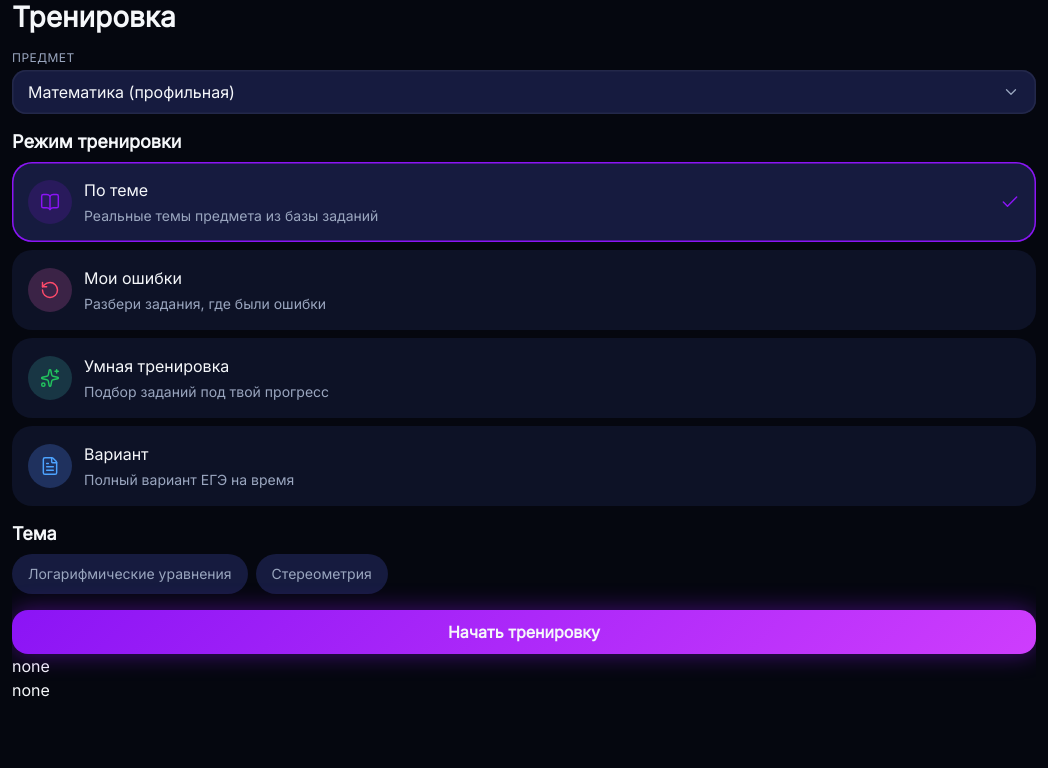
Training — "По теме" (real topics, independent 🎲/🔄, numbers, amount) › shows an honest "no unseen tasks" message for the topic, never a silent fallback
Click the button "Логарифмические уравнения" at (130, 574), box [12,554,248,594]
(page scrolled)
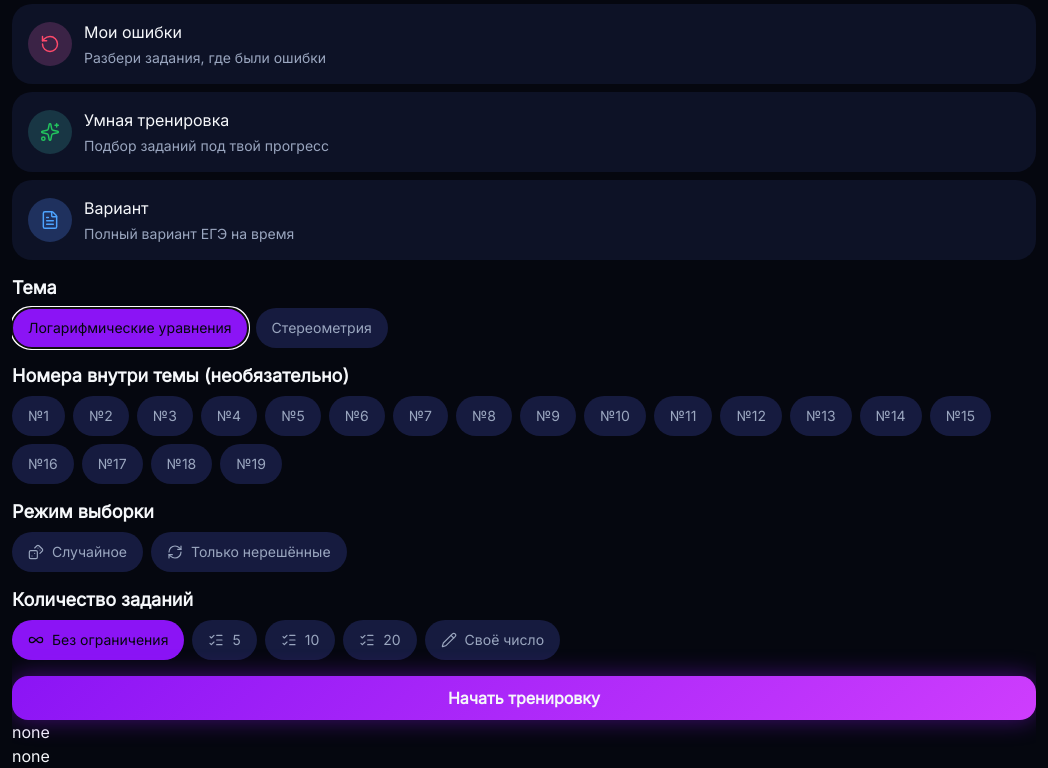
Click the button "Только нерешённые" at (249, 552), box [151,532,347,572]
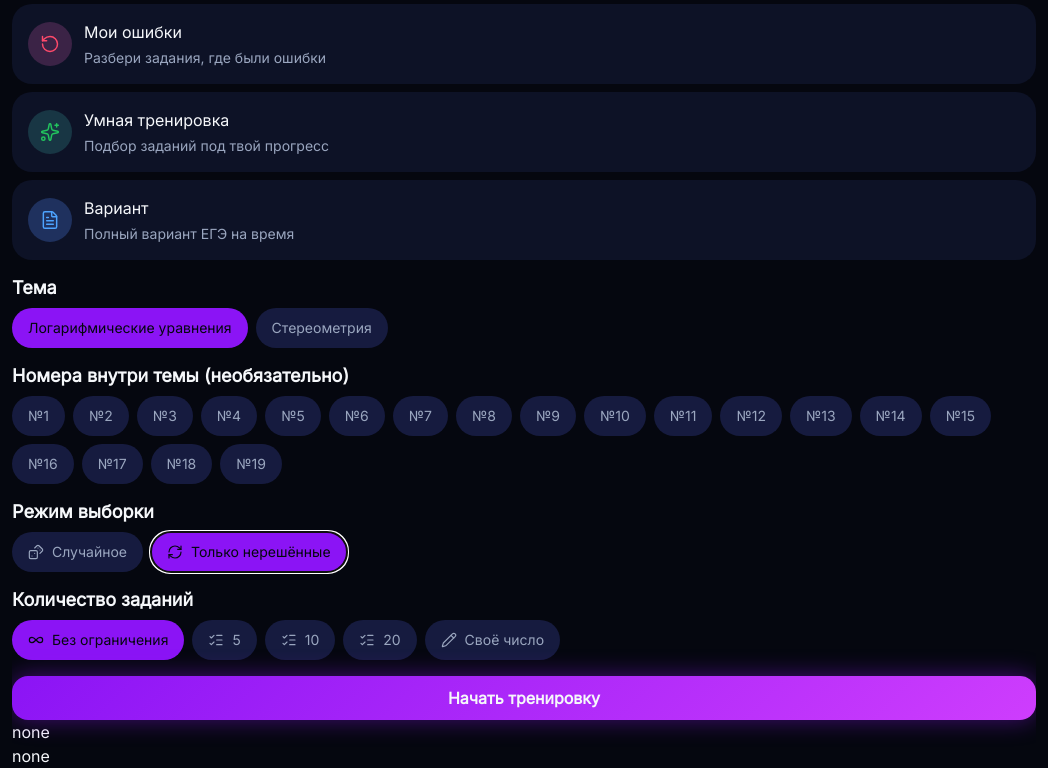
Click the button "Начать тренировку" at (524, 698), box [12,676,1036,720]
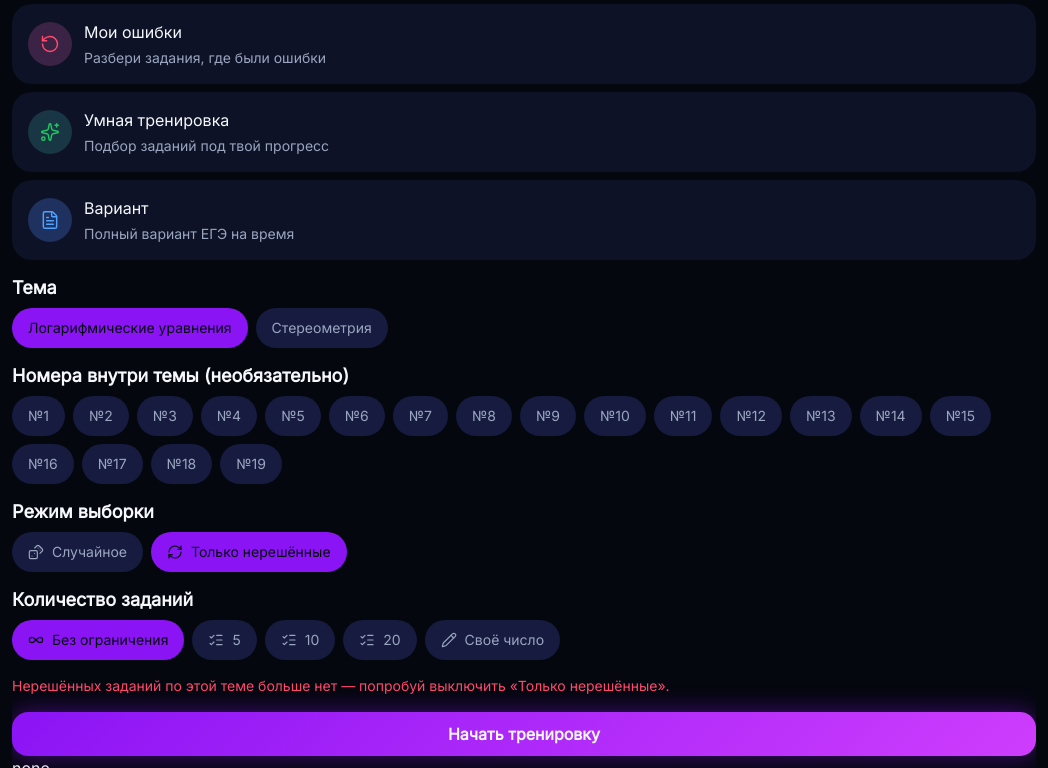
Expected: the text "Нерешённых заданий по этой теме больше нет" is shown, [12,677,670,694]
